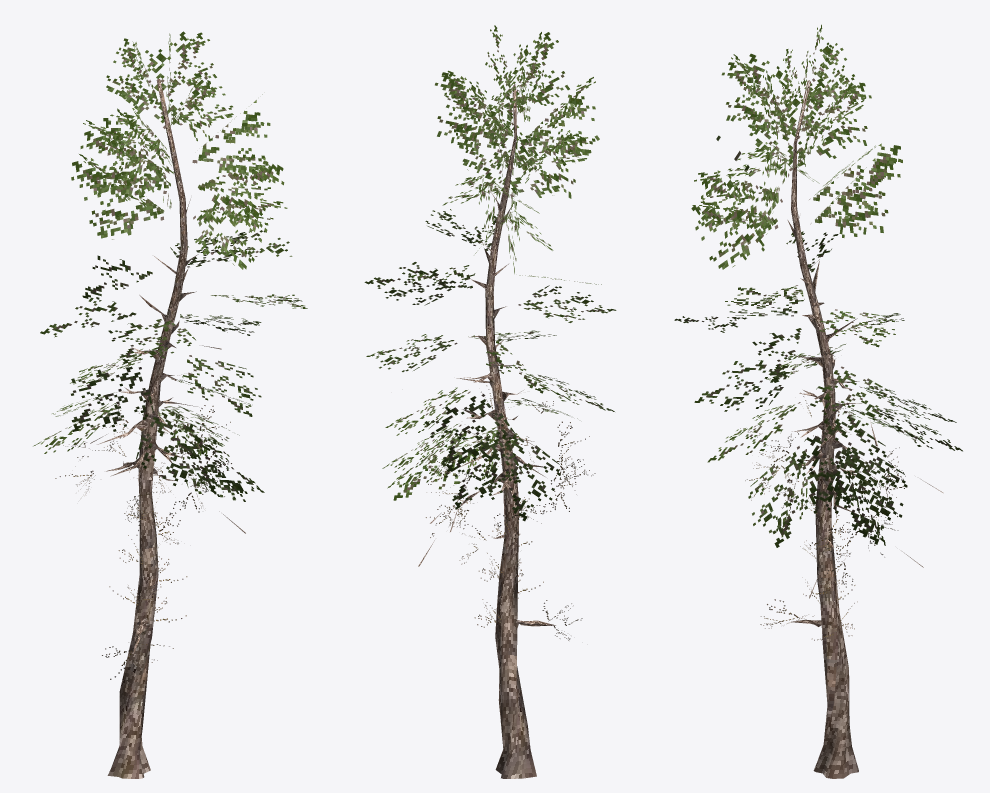
File: tree_spruce_lo.glb
3 views of the same model, side by side, from view 1: azimuth 30°, elevation 25°; view 2: azimuth 150°, elevation 25°; view 3: azimuth 270°, elevation 25° (orthographic). The views are drawn at different scales.
Parts seen in each view (by area): view 1: m; view 2: m; view 3: m.
Part boxes in pixels (x1=…): m: x1=33, y1=31, x2=307, y2=778; m: x1=364, y1=25, x2=616, y2=778; m: x1=674, y1=24, x2=962, y2=778.
Bounding box in the file's own units: 0.3332 × 0.9916 × 0.3749.
3 materials, 3 textured.
